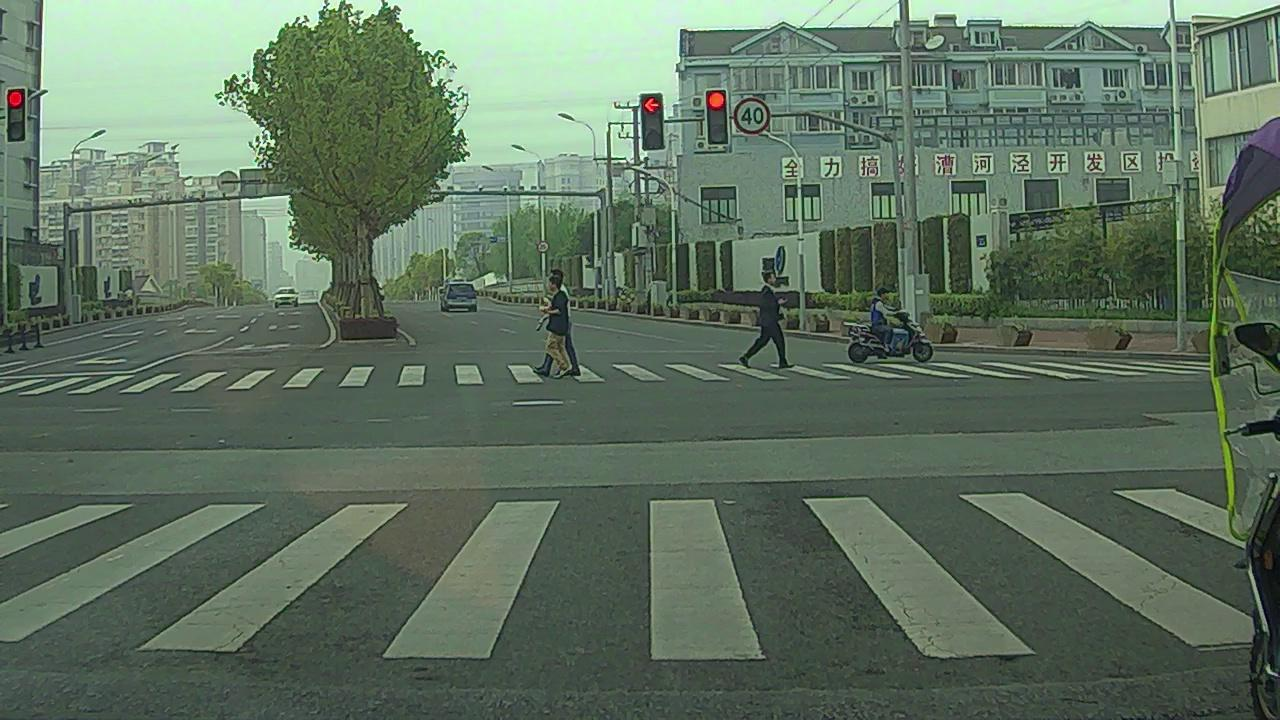traffic_light: (641, 94, 663, 149), (707, 90, 728, 144), (7, 89, 25, 141)
